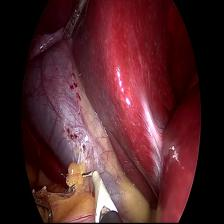Grasper: (53, 2, 89, 53), (33, 190, 58, 224)
Hook: (80, 165, 123, 224)
